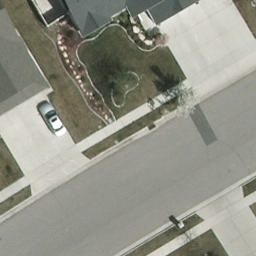car: (35, 100, 69, 138)
